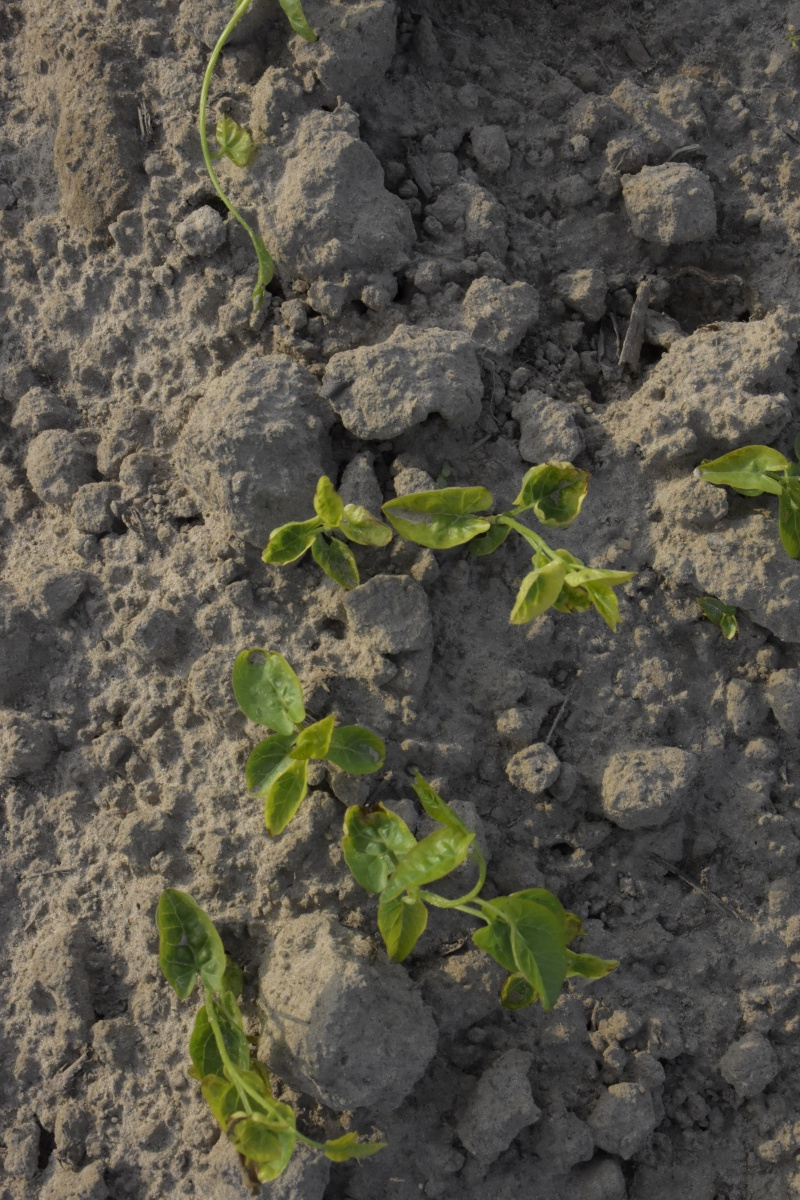field bindweed: (236, 650, 619, 1006), (138, 880, 388, 1185), (189, 1, 315, 336), (391, 467, 627, 631), (263, 486, 396, 585), (697, 439, 800, 547)
